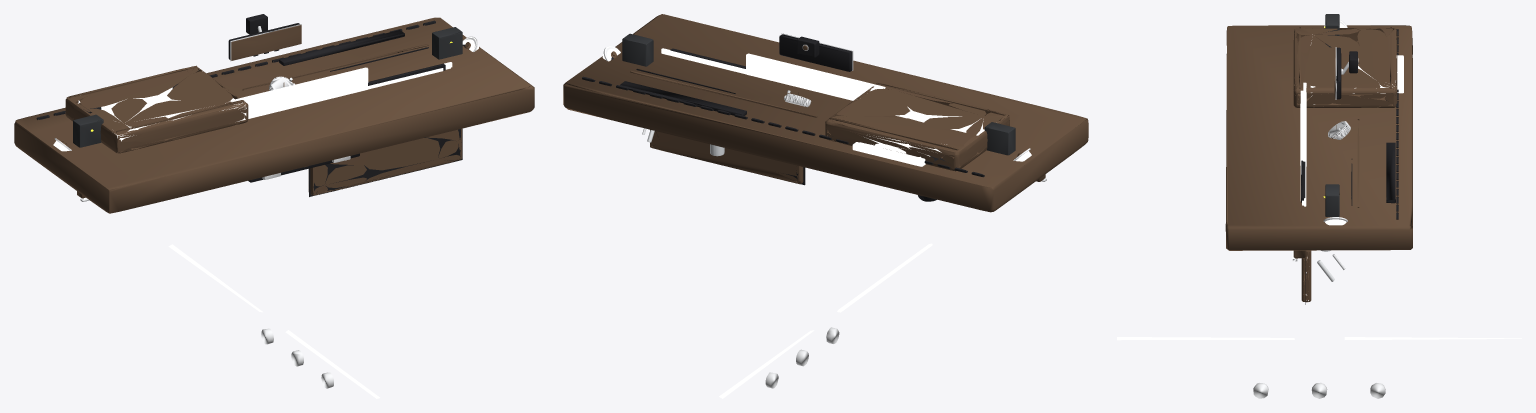
Rendered from dashboard_executive.glb.
3 views of the same model, side by side, from view 1: azimuth 30°, elevation 25°; view 2: azimuth 150°, elevation 25°; view 3: azimuth 270°, elevation 25° (orthographic). The views are drawn at different scales.
Parts seen in each view (by area): view 1: Dash_Upper_Leather_Cowl, Dash_Instrument_Hood_Binnacle, Dash_Glovebox_Door_Panel, Dash_Center_Infotainment_Touchscreen, Dash_Electrochromic_Mirror_GlassPlate, Dash_Defroster_Slot_R, Dash_Glovebox_Seam_Outline, GEO_Dash_AmbientLightGuide, Dash_Exec_Cinema_Virtual_VirtualMirror_R_Pod, Dash_Exec_Cinema_Virtual_VirtualMirror_L_Pod, Dash_Center_Touchscreen_Glass_Bezel, GEO_Dash_ClimateDials (+1 smaller); view 2: Dash_Upper_Leather_Cowl, Dash_Instrument_Hood_Binnacle, Dash_Center_Touchscreen_Glass_Bezel, Dash_Glovebox_Door_Panel, Dash_Electrochromic_Mirror_RearShell, Dash_Exec_Cinema_Virtual_VirtualMirror_R_Pod, GEO_Dash_AmbientLightGuide, Dash_Defroster_Slot_R, Dash_Exec_Cinema_Virtual_VirtualMirror_L_Pod, Dash_HUD_Projector_Housing, GEO_Dash_ClimateDials, Dash_Contrast_Seam_Pass (+1 smaller); view 3: Dash_Upper_Leather_Cowl, Dash_Instrument_Hood_Binnacle, GEO_Dash_AmbientLightGuide, GEO_Dash_ClimateDials, Dash_Defroster_Slot_R, Dash_Glovebox_Door_Panel, Dash_Exec_Cinema_Virtual_VirtualMirror_R_Pod.
Part boxes in pixels (x1,y1,x2,y2): Dash_Upper_Leather_Cowl: (14, 17, 534, 213); Dash_Instrument_Hood_Binnacle: (65, 66, 248, 153); Dash_Glovebox_Door_Panel: (308, 128, 462, 195); Dash_Center_Infotainment_Touchscreen: (234, 71, 367, 121); Dash_Electrochromic_Mirror_GlassPlate: (231, 25, 301, 60); Dash_Defroster_Slot_R: (279, 30, 404, 65); Dash_Glovebox_Seam_Outline: (309, 129, 462, 196); GEO_Dash_AmbientLightGuide: (168, 244, 379, 398); Dash_Exec_Cinema_Virtual_VirtualMirror_R_Pod: (432, 27, 462, 59); Dash_Exec_Cinema_Virtual_VirtualMirror_L_Pod: (73, 114, 103, 147); Dash_Center_Touchscreen_Glass_Bezel: (230, 67, 368, 109); GEO_Dash_ClimateDials: (261, 328, 333, 388); Dash_Upper_Leather_Cowl: (563, 14, 1088, 212); Dash_Instrument_Hood_Binnacle: (825, 83, 1009, 171); Dash_Center_Touchscreen_Glass_Bezel: (746, 53, 885, 100); Dash_Glovebox_Door_Panel: (650, 129, 803, 184); Dash_Electrochromic_Mirror_RearShell: (779, 34, 852, 71); Dash_Exec_Cinema_Virtual_VirtualMirror_R_Pod: (622, 33, 653, 66); GEO_Dash_AmbientLightGuide: (719, 243, 932, 398); Dash_Defroster_Slot_R: (620, 81, 746, 115); Dash_Exec_Cinema_Virtual_VirtualMirror_L_Pod: (984, 122, 1015, 155); Dash_HUD_Projector_Housing: (852, 137, 946, 166); GEO_Dash_ClimateDials: (765, 327, 839, 388); Dash_Contrast_Seam_Pass: (630, 70, 817, 117); Dash_Upper_Leather_Cowl: (1225, 25, 1412, 250); Dash_Instrument_Hood_Binnacle: (1293, 28, 1397, 107); GEO_Dash_AmbientLightGuide: (1117, 337, 1521, 340); GEO_Dash_ClimateDials: (1253, 382, 1385, 398); Dash_Defroster_Slot_R: (1386, 142, 1395, 203); Dash_Glovebox_Door_Panel: (1301, 250, 1311, 302); Dash_Exec_Cinema_Virtual_VirtualMirror_R_Pod: (1325, 184, 1339, 216).
Bounding box in the file's own units: 1.48 × 1.13 × 1.25.
